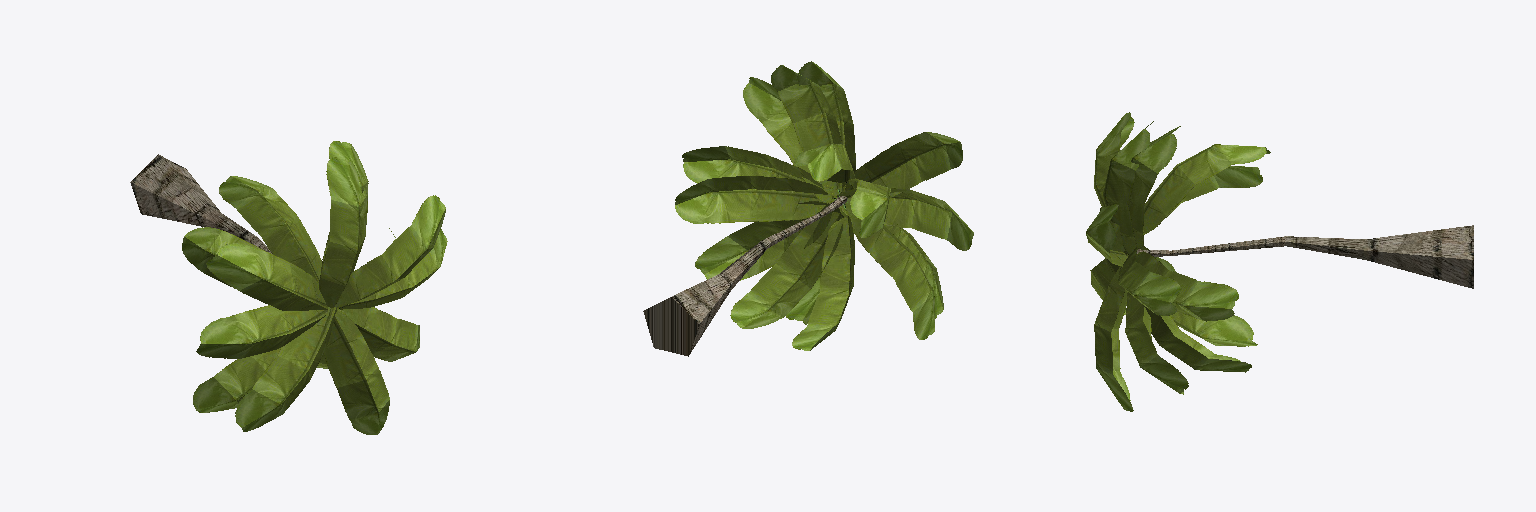
3 views of the same model, side by side, from view 1: azimuth 30°, elevation 25°; view 2: azimuth 150°, elevation 25°; view 3: azimuth 270°, elevation 25° (orthographic).
Parts seen in each view (by area): view 1: l1_3_50, palm_tree4; view 2: l1_3_50, palm_tree4; view 3: l1_3_50, palm_tree4.
Part boxes in pixels (x1,y1,x2,y2): l1_3_50: (182, 141, 447, 434); palm_tree4: (130, 154, 271, 253); l1_3_50: (675, 61, 973, 350); palm_tree4: (643, 196, 847, 356); l1_3_50: (1086, 112, 1270, 411); palm_tree4: (1128, 225, 1473, 288).
Bounding box in the file's own units: 22.59 × 22.91 × 25.48.
2 materials, 2 textured.